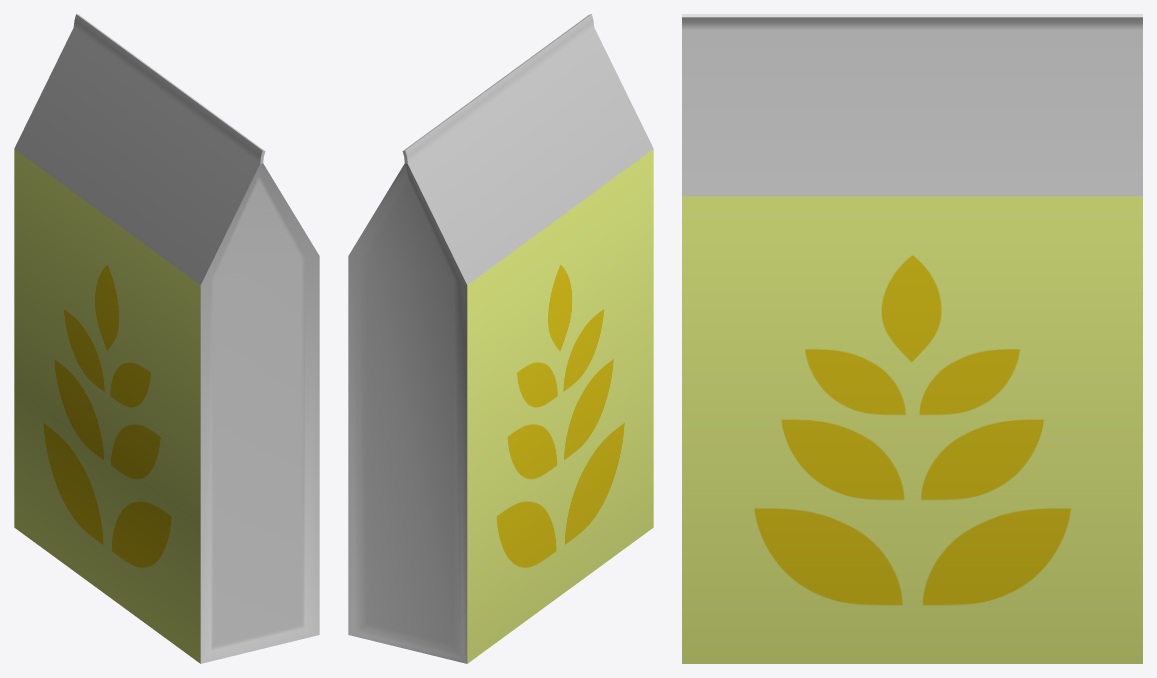
File: Sugar.fbx
3 views of the same model, side by side, from view 1: azimuth 30°, elevation 25°; view 2: azimuth 150°, elevation 25°; view 3: azimuth 270°, elevation 25° (orthographic). The views are drawn at different scales.
Visible parts, largest first — view 1: Shugar; view 2: Shugar; view 3: Shugar.
Part boxes in pixels (box(x1,y1,x2,y2)): Shugar: box(14, 14, 319, 663); Shugar: box(348, 14, 653, 663); Shugar: box(682, 14, 1142, 663).
Size of the model in its own units: 9 by 24.41 by 35.98.
